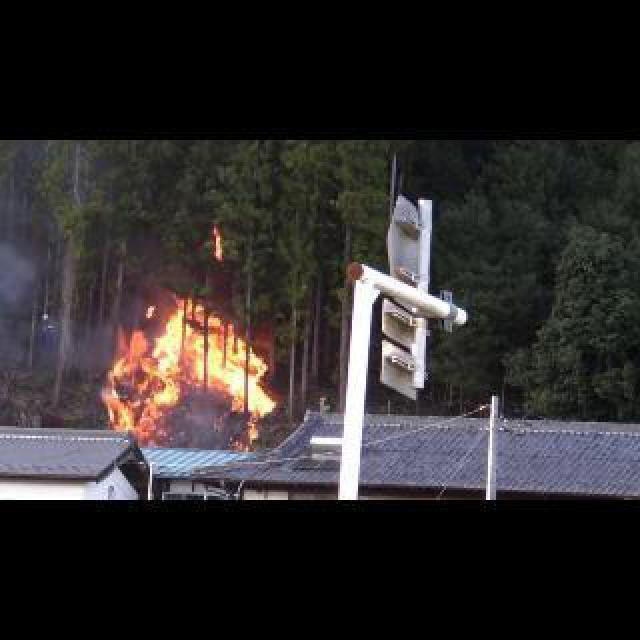Fire: (100, 292, 278, 448), (212, 224, 222, 260)
Smoke: (2, 208, 46, 372)
